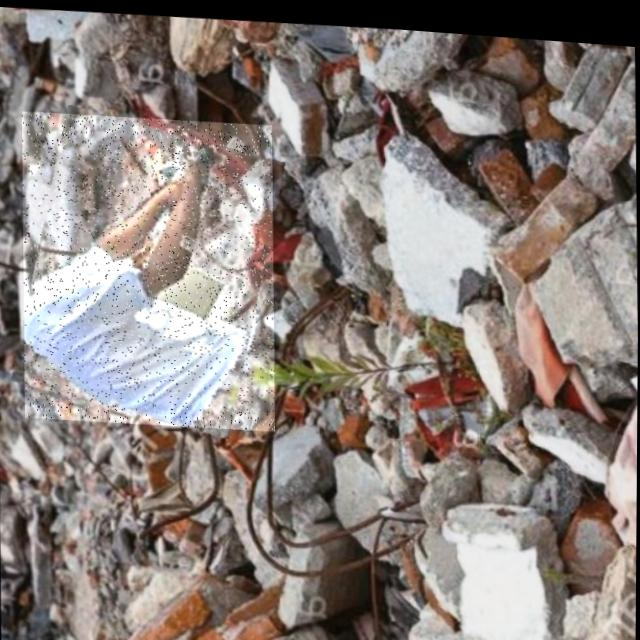Person in Rubble: (20, 105, 277, 430)
